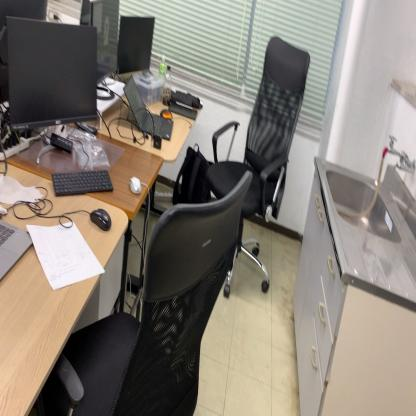chair: (52, 168, 253, 416), (202, 33, 313, 294)
